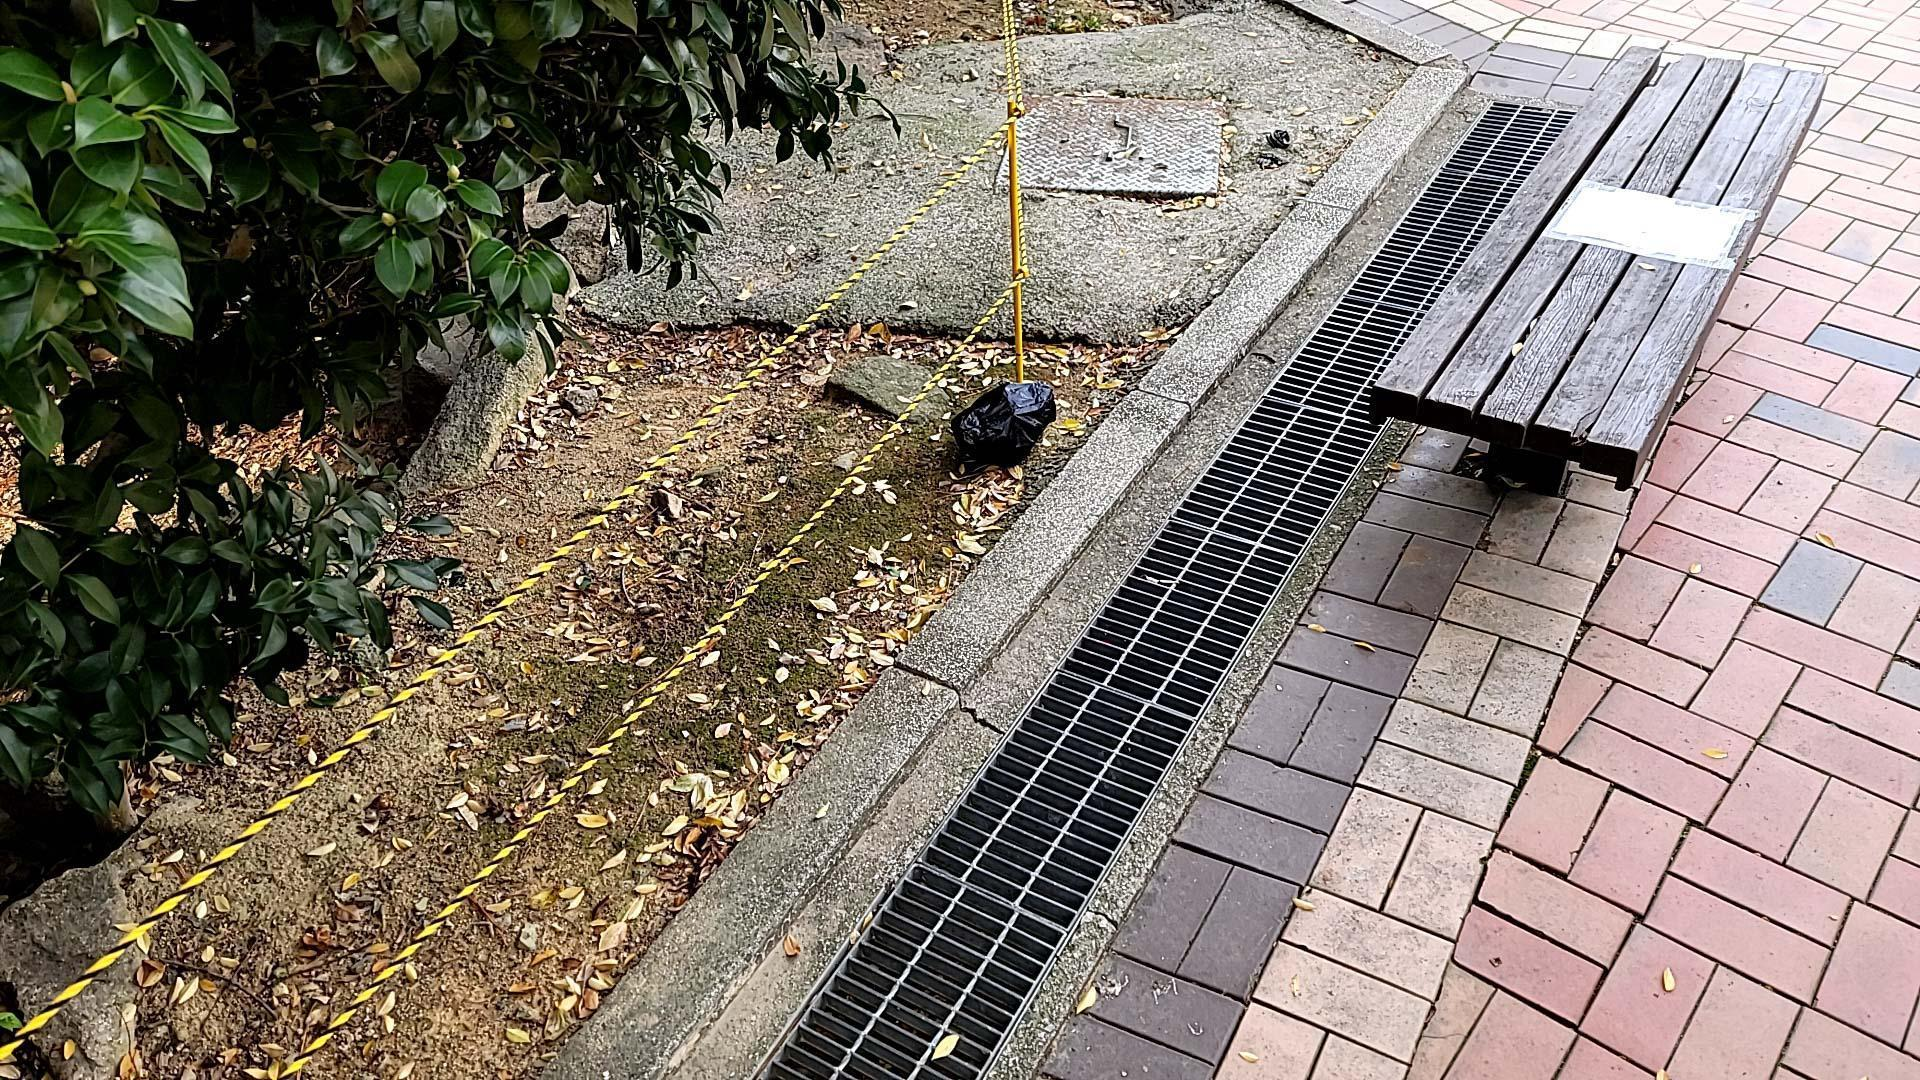black_bag: (948, 376, 1060, 475)
